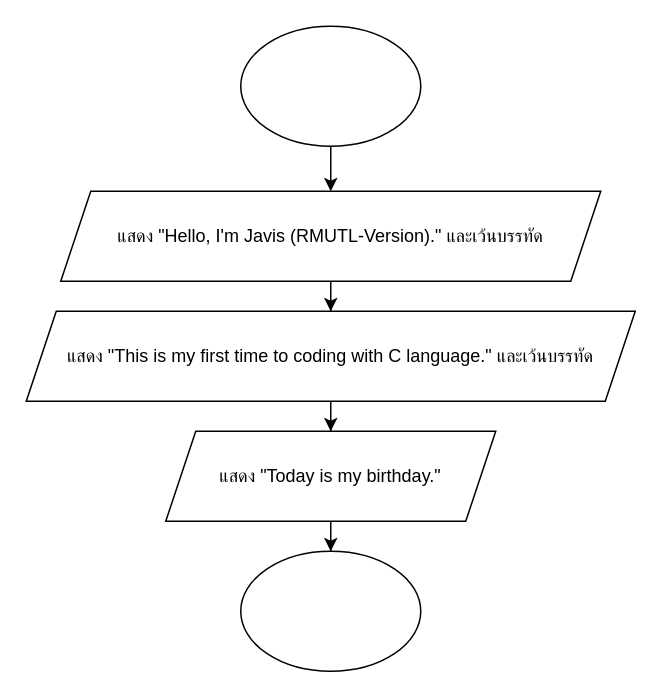
Image size: 662x698. Some labels were removed from this diagram. The box of each missing label's shape, as (x1, y1, x2, y2) in pixels:
END: (239, 550, 421, 671)
START: (239, 25, 421, 146)
